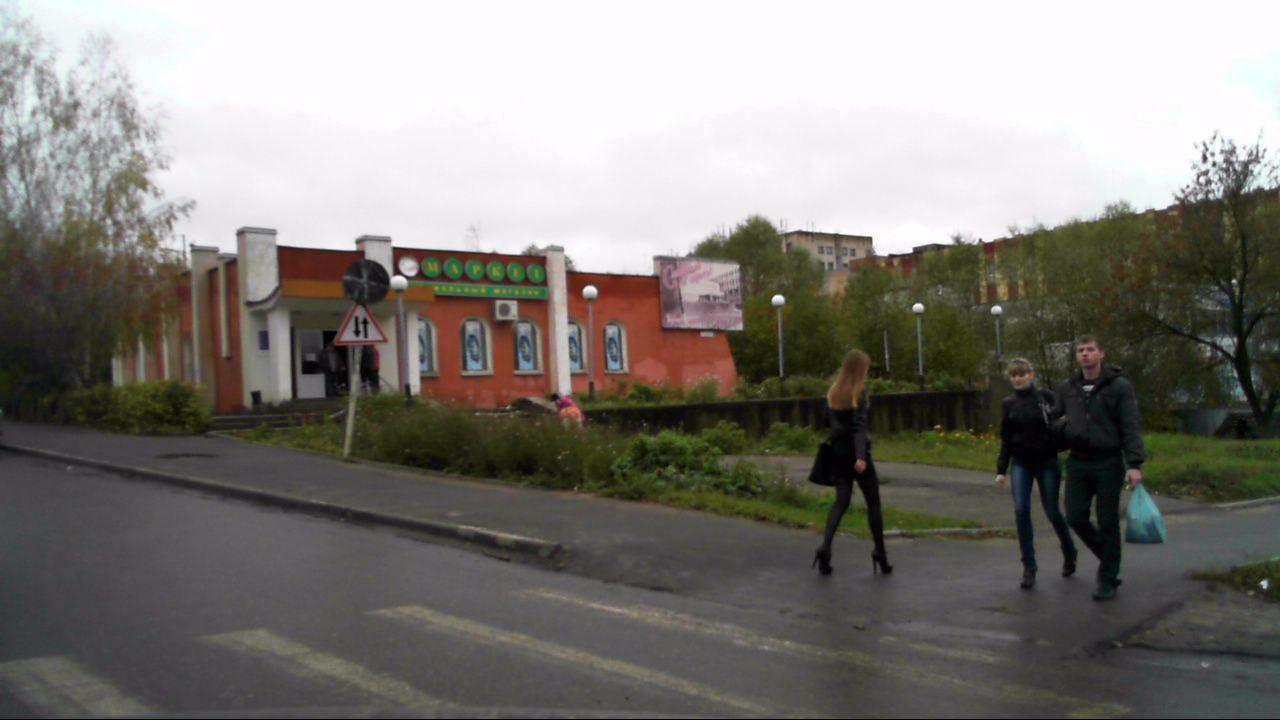road_sign: (332, 303, 389, 345)
